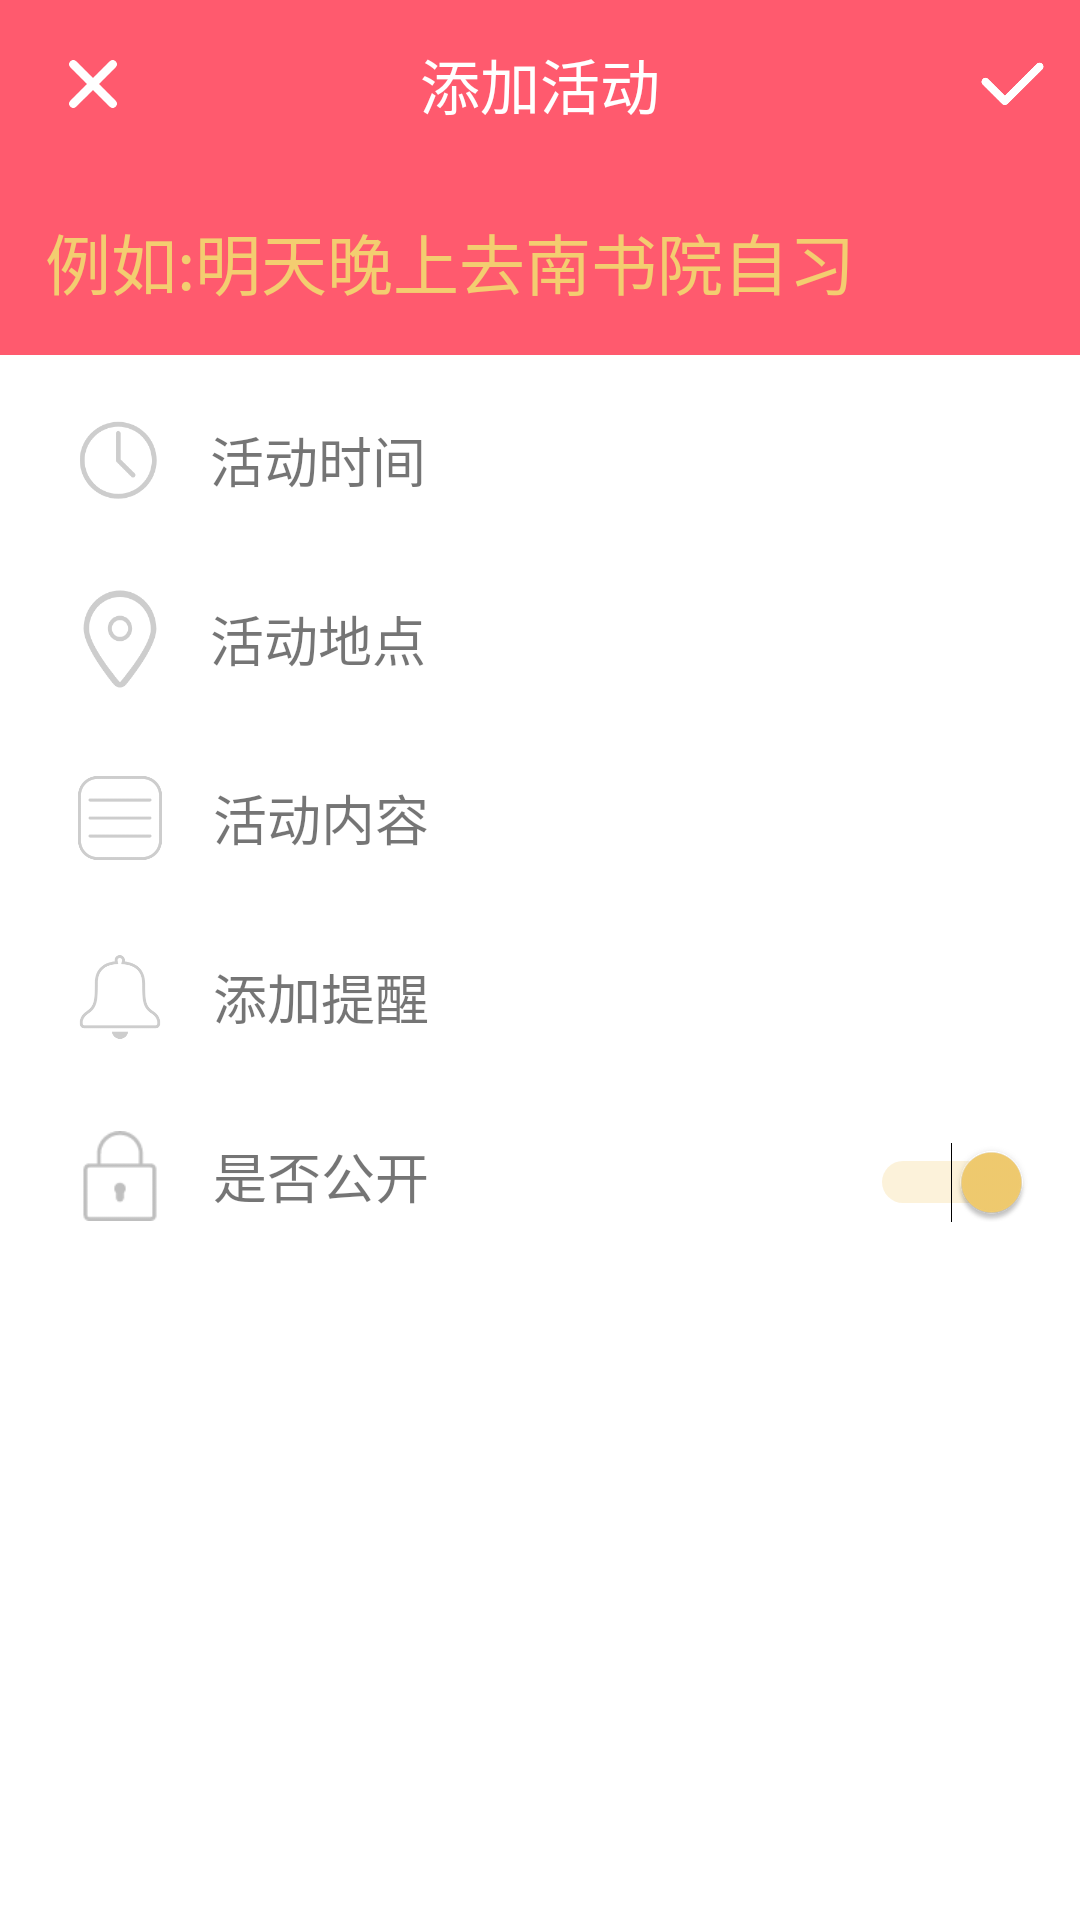

Named icons in this screenshot (1080×1920) and their centers, (x,y):
clock: (118,460)
close: (93,84)
complete: (1012,83)
content: (120,818)
location: (120,638)
privacy: (120,1176)
remind: (120,997)
